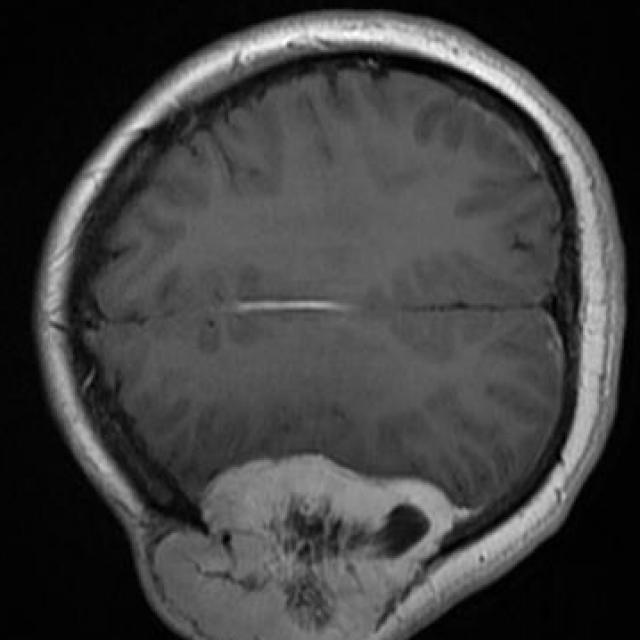meningioma: (153, 455, 455, 640)
